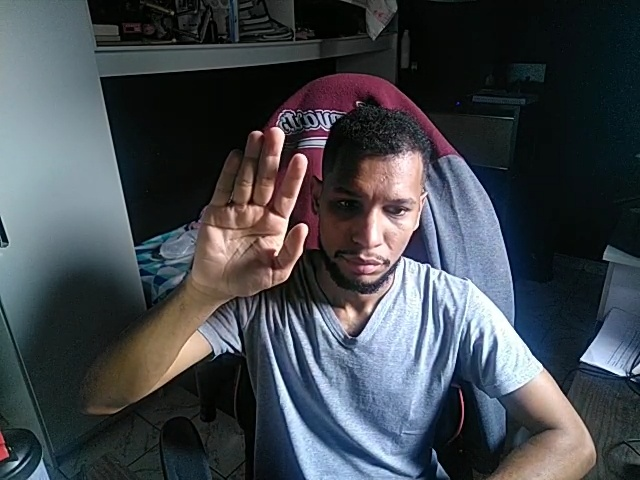oi: (184, 124, 309, 294)
